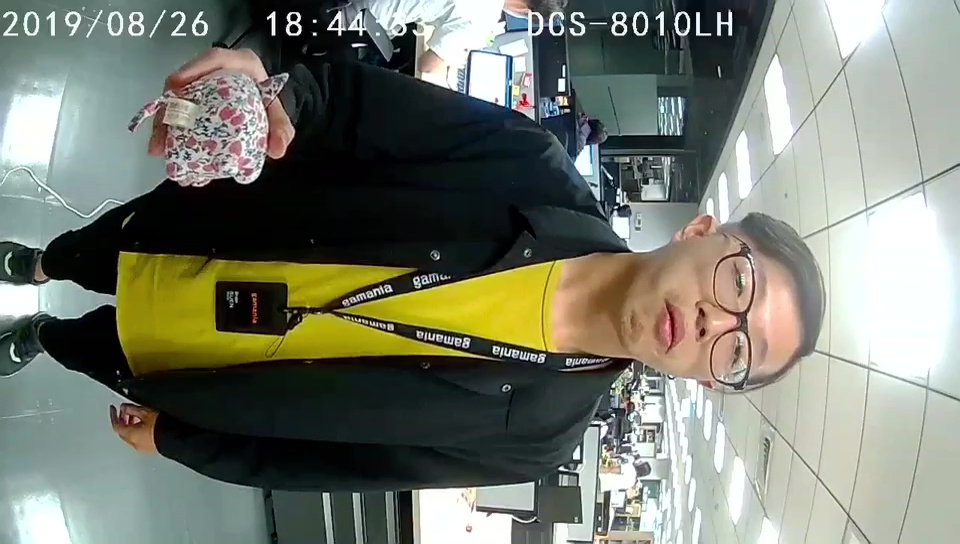pig: (158, 71, 291, 190)
